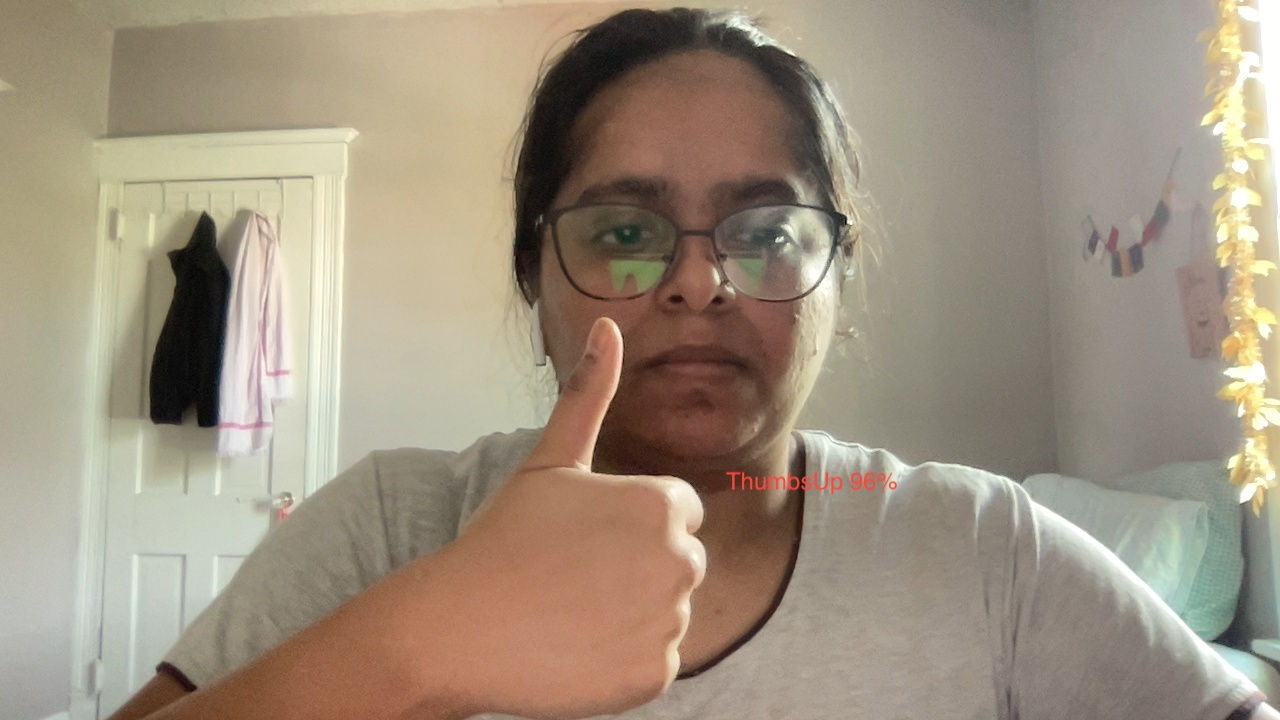ThumbsUp: (502, 317, 709, 720)
